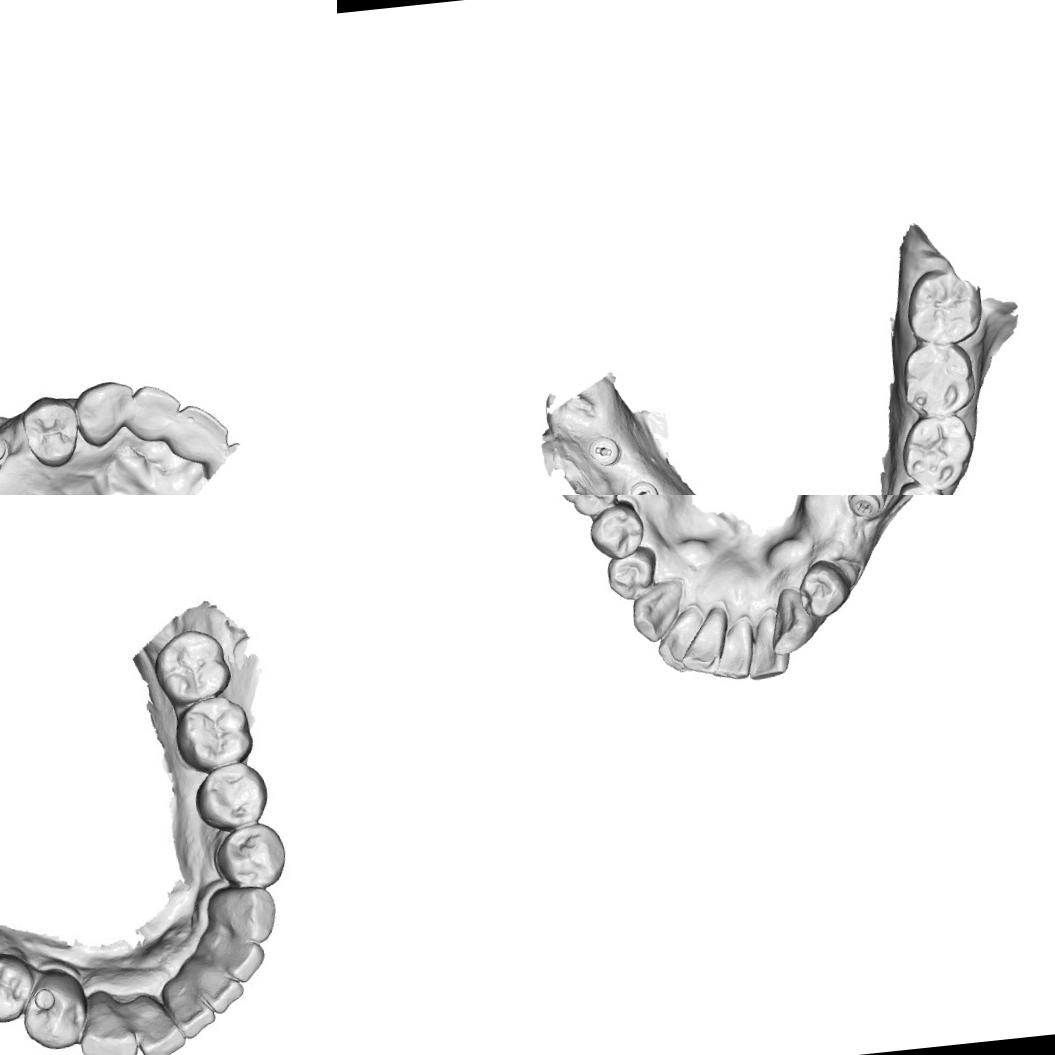canine: (70, 378, 140, 452), (207, 880, 282, 948), (622, 576, 694, 646), (72, 984, 141, 1055), (763, 584, 818, 658)
implant: (583, 430, 625, 470)
implant_minus: (844, 495, 890, 521), (626, 477, 663, 495), (0, 430, 13, 472)
incisor: (164, 400, 232, 466), (676, 604, 733, 674), (702, 612, 758, 683), (124, 380, 185, 445), (742, 604, 792, 682), (654, 606, 710, 675), (164, 974, 219, 1043), (190, 953, 246, 1017), (131, 992, 187, 1055), (210, 928, 266, 986)
molar: (170, 692, 256, 776), (901, 264, 986, 348), (897, 338, 980, 421), (150, 625, 232, 706), (897, 412, 978, 493), (555, 495, 624, 521)
premolar: (17, 964, 90, 1055), (207, 818, 292, 894), (189, 760, 272, 833), (18, 393, 82, 471), (794, 558, 854, 620), (586, 502, 647, 562), (600, 544, 661, 604), (0, 951, 36, 1027), (893, 478, 952, 495)
